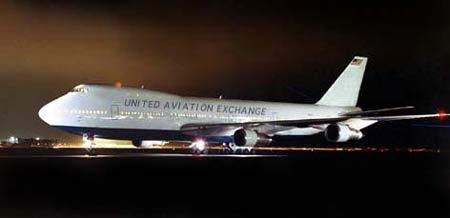airplane: (37, 56, 448, 151)
